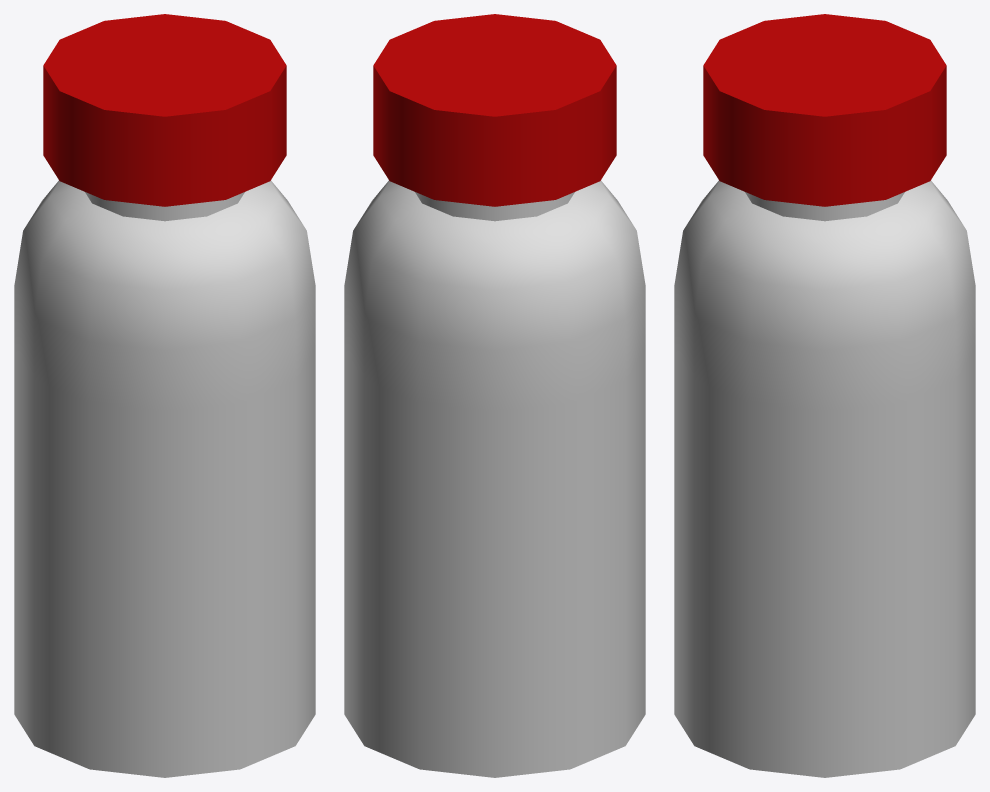
Rendered from PlasticBottle03.fbx.
3 views of the same model, side by side, from view 1: azimuth 30°, elevation 25°; view 2: azimuth 150°, elevation 25°; view 3: azimuth 270°, elevation 25° (orthographic).
Visible parts, largest first — view 1: PlasticBottle03; view 2: PlasticBottle03; view 3: PlasticBottle03.
Boxes of the visible parts, left/top/right/bottom form: PlasticBottle03: left=14, top=14, right=315, bottom=777; PlasticBottle03: left=344, top=14, right=645, bottom=777; PlasticBottle03: left=674, top=14, right=975, bottom=777.
Size of the model in its own units: 5.41 by 5.41 by 12.83.
